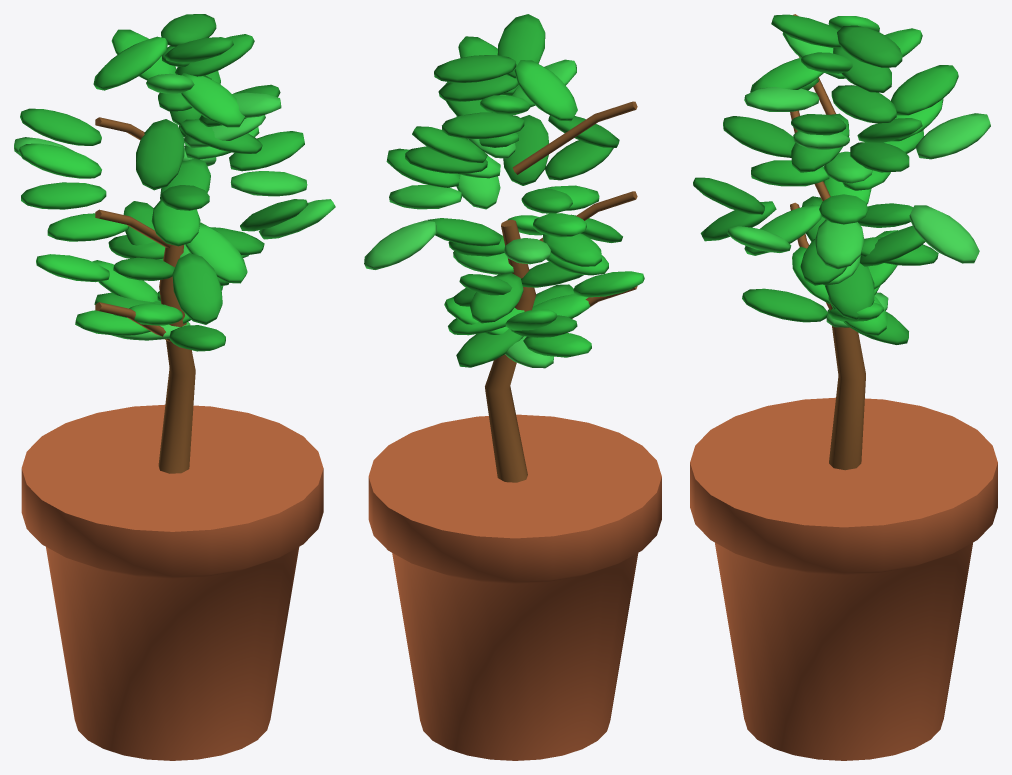
File: ficus.fbx
The picture shows the model from 3 angles, left to right: view 1: azimuth 30°, elevation 25°; view 2: azimuth 150°, elevation 25°; view 3: azimuth 270°, elevation 25°; orthographic projection. The views are drawn at different scales.
Visible parts, largest first — view 1: Potted Ficus; view 2: Potted Ficus; view 3: Potted Ficus.
Part boxes in pixels (box(x1,y1,x2,y2)): Potted Ficus: box(14, 14, 335, 760); Potted Ficus: box(364, 14, 661, 760); Potted Ficus: box(690, 14, 997, 760).
Size of the model in its own units: 0.7499 by 1.88 by 0.74.
